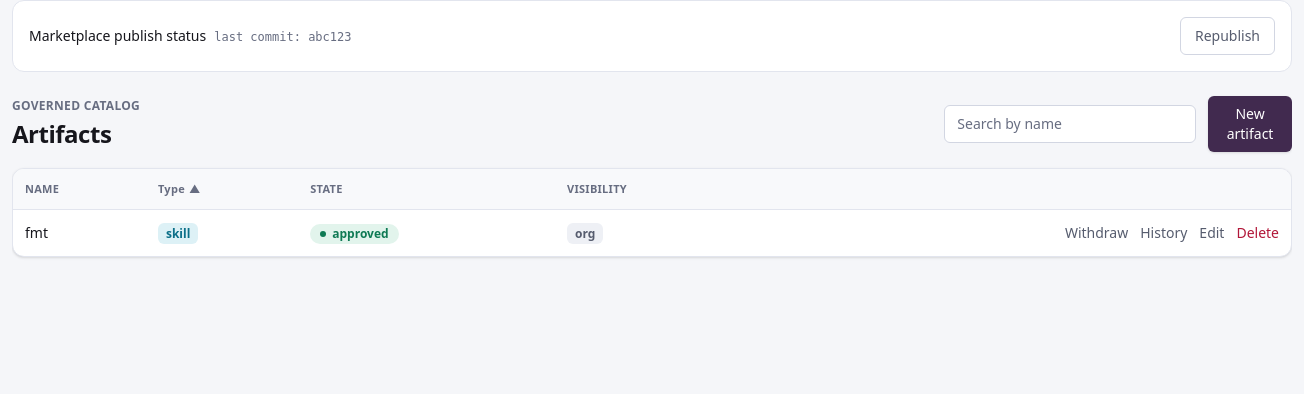
history: a failing revisions query shows an error, not the no-versions empty state
Click the button "History" at (1164, 233), box [1140,223,1187,243]
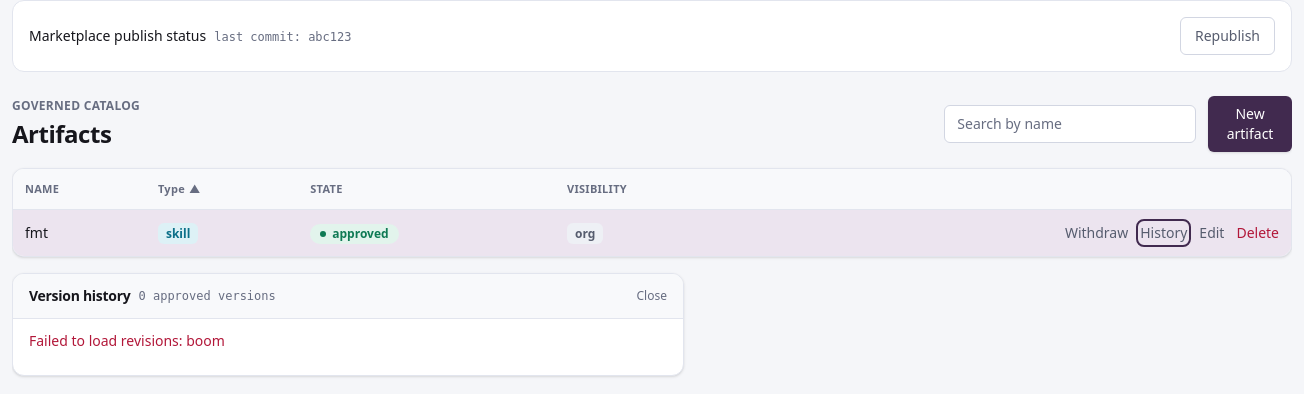
Now the text "Failed to load revisions: boom" is shown, box [29,331,225,350]
